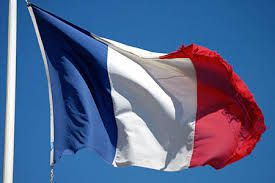French Flag: (25, 2, 267, 172)
